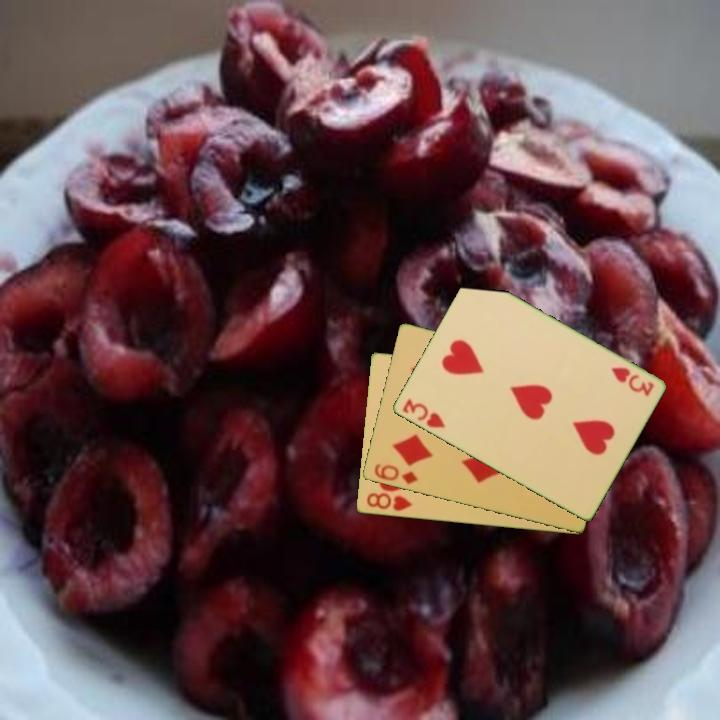3h: (607, 364, 657, 400), (399, 395, 448, 431)
6d: (370, 460, 420, 487)
8h: (363, 489, 415, 514)
